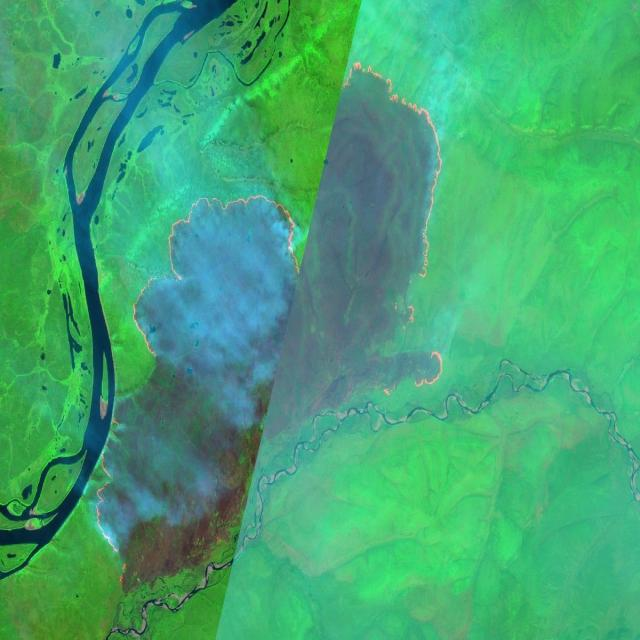fire: (85, 55, 449, 583)
